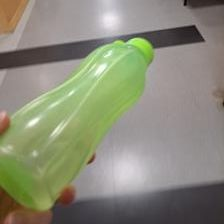bottle: (0, 34, 155, 213)
